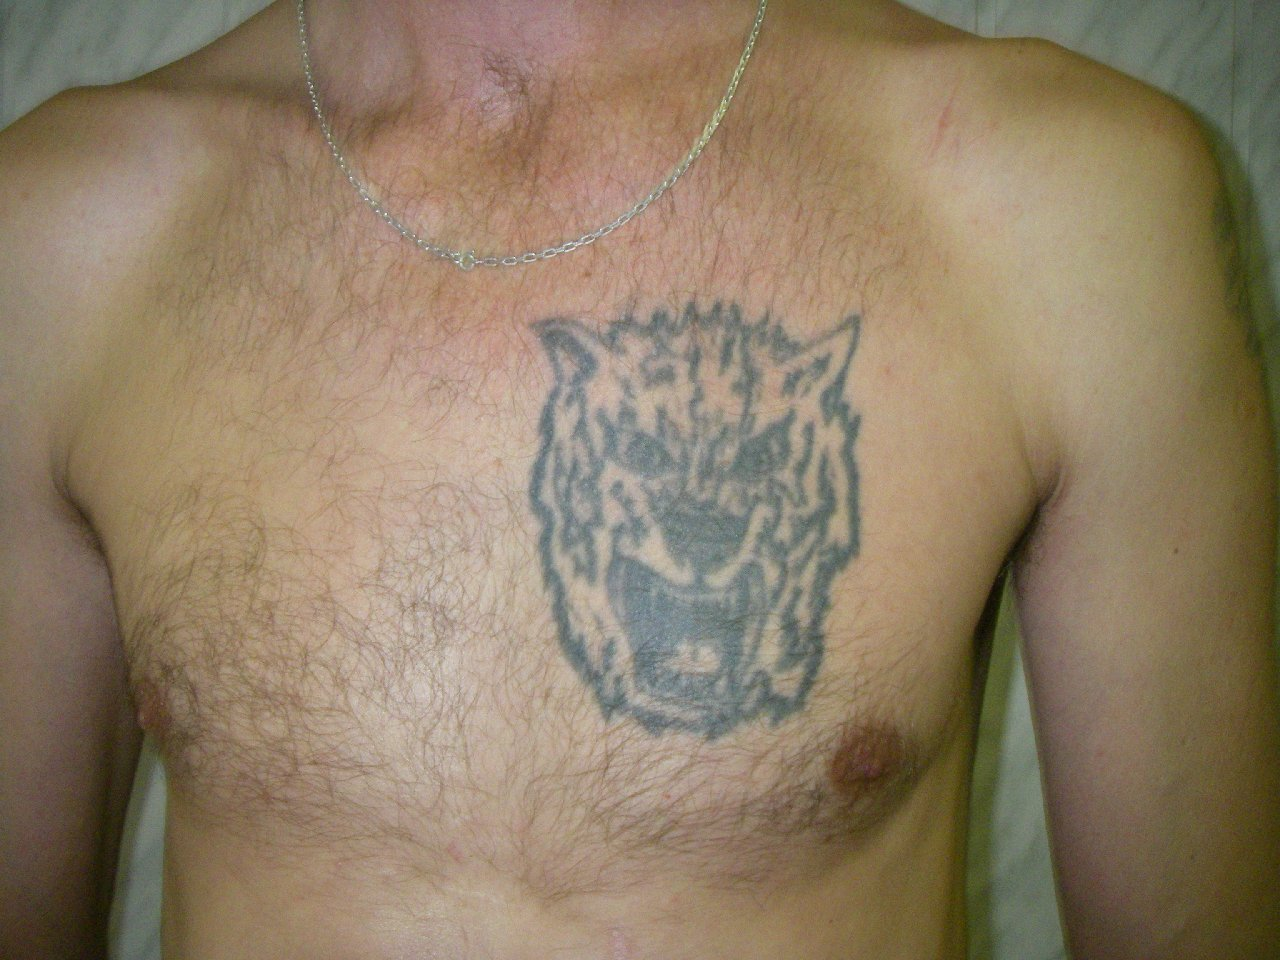tatu5_tigr: (527, 297, 878, 739)
